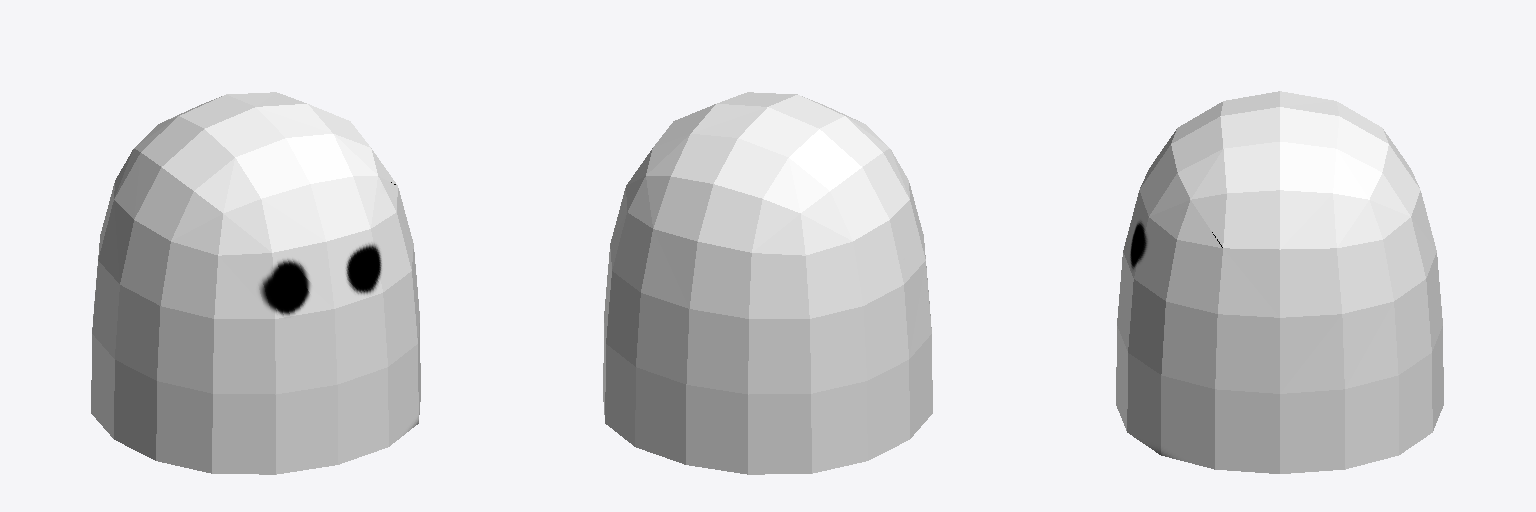
The picture shows the model from 3 angles: view 1: azimuth 30°, elevation 25°; view 2: azimuth 150°, elevation 25°; view 3: azimuth 270°, elevation 25°; orthographic projection.
Visible parts, largest first — view 1: 立方体; view 2: 立方体; view 3: 立方体.
Part boxes in pixels (x1,y1,x2,y2): 立方体: (91,92,420,474); 立方体: (603,92,932,474); 立方体: (1116,91,1443,473).
Size of the model in its own units: 0.3667 by 0.3679 by 0.3667.
1 materials, 1 textured.